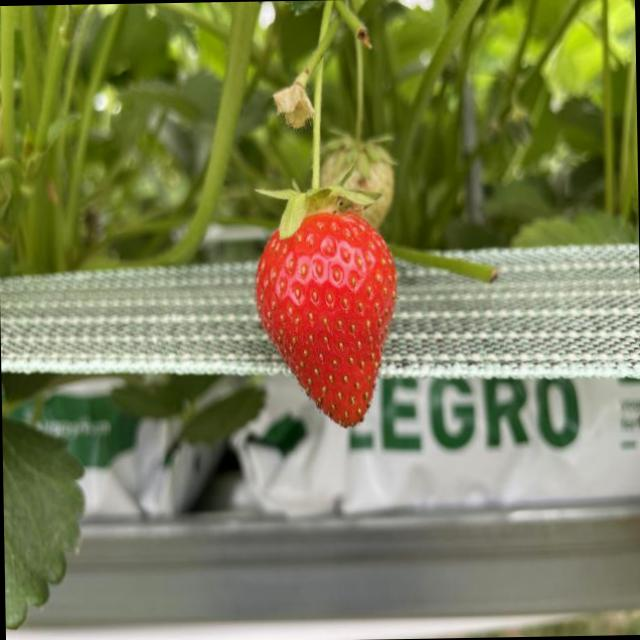stem: (259, 53, 377, 238), (318, 0, 332, 53)
strawberryR: (255, 211, 395, 423)
